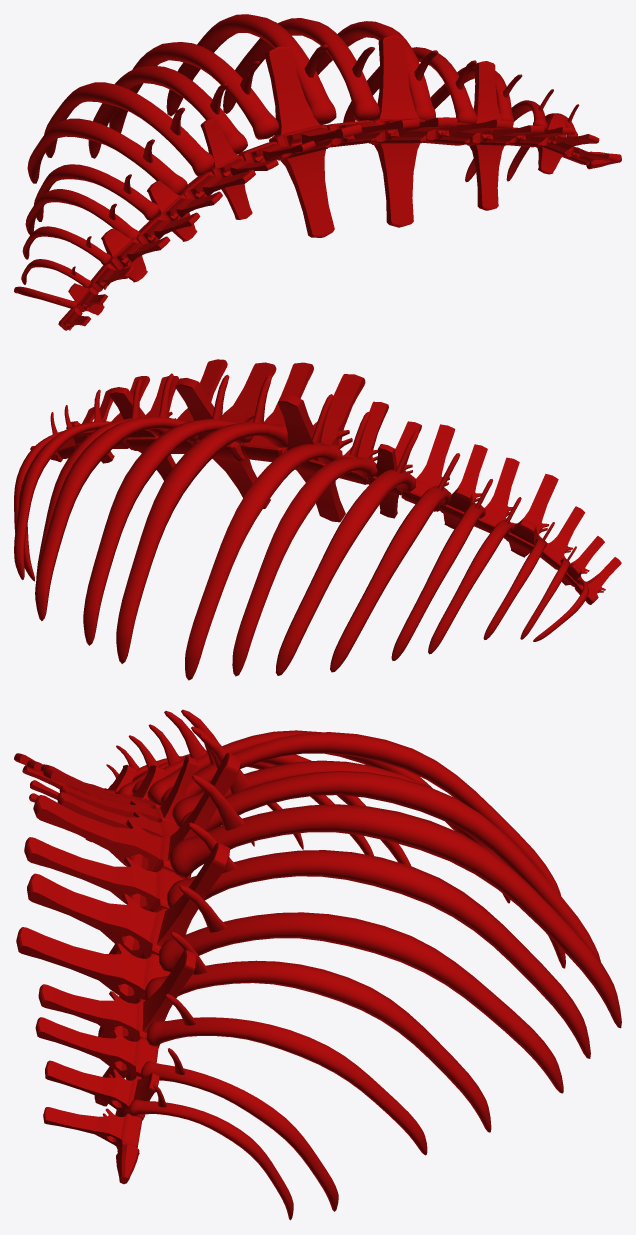
The model's file is Asset_WhaleBone04.fbx.
The picture shows the model from 3 angles, top to bottom: view 1: azimuth 30°, elevation 25°; view 2: azimuth 150°, elevation 25°; view 3: azimuth 270°, elevation 25°; orthographic projection. The views are drawn at different scales.
Visible parts, largest first — view 1: polySurface87; view 2: polySurface87; view 3: polySurface87.
Boxes of the visible parts, <box> form: polySurface87: <box>14,14,621,330</box>; polySurface87: <box>14,359,621,680</box>; polySurface87: <box>14,709,621,1220</box>.
Bounding box in the file's own units: 5.56 × 2.02 × 3.63.
